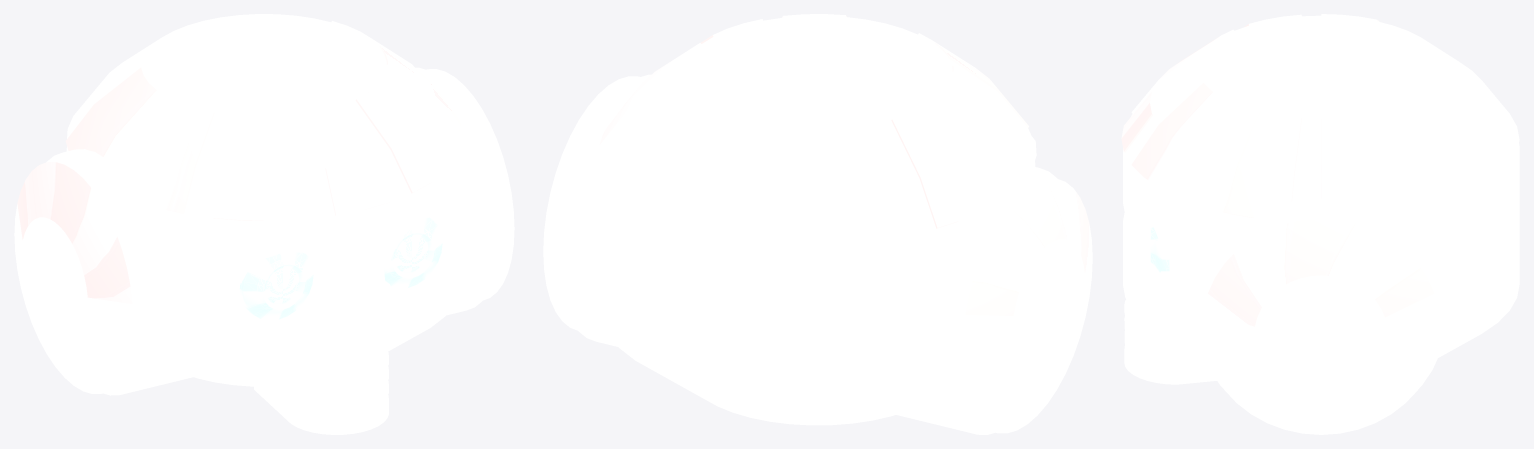
Rendered from Head_05.gltf.
3 views of the same model, side by side, from view 1: azimuth 30°, elevation 25°; view 2: azimuth 150°, elevation 25°; view 3: azimuth 270°, elevation 25° (orthographic). The views are drawn at different scales.
Parts seen in each view (by area): view 1: Head_v5, head_v5_parts3, head_v5_parts4, head_v5_parts5; view 2: Head_v5, head_v5_parts3; view 3: Head_v5, head_v5_parts3, head_v5_parts5.
Part boxes in pixels (box(x1,y1,x2,y2)): Head_v5: box(65, 14, 463, 386); head_v5_parts3: box(14, 67, 514, 434); head_v5_parts4: box(239, 252, 313, 320); head_v5_parts5: box(384, 217, 442, 289); Head_v5: box(599, 14, 1036, 425); head_v5_parts3: box(543, 74, 1092, 434); Head_v5: box(1121, 14, 1519, 357); head_v5_parts3: box(1124, 198, 1445, 434); head_v5_parts5: box(1150, 222, 1169, 276).
Bounding box in the file's own units: 24.08 × 16.38 × 19.75.
7 materials, 4 textured.
